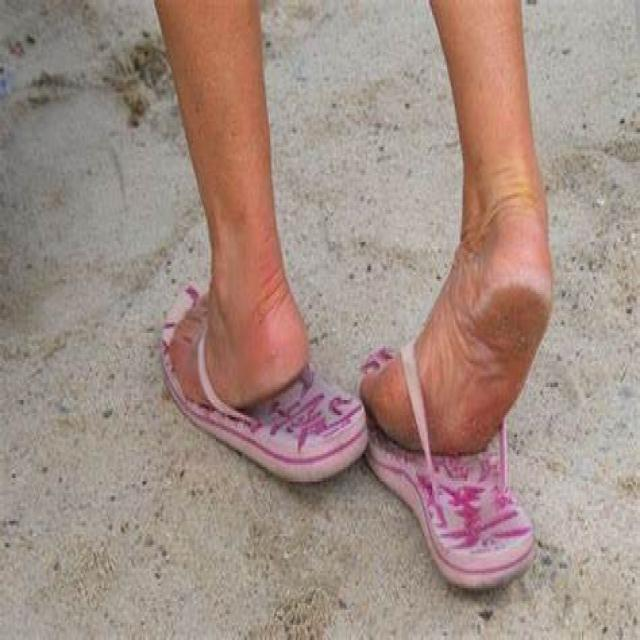No_Shoe: (152, 256, 361, 502), (362, 314, 535, 592)
